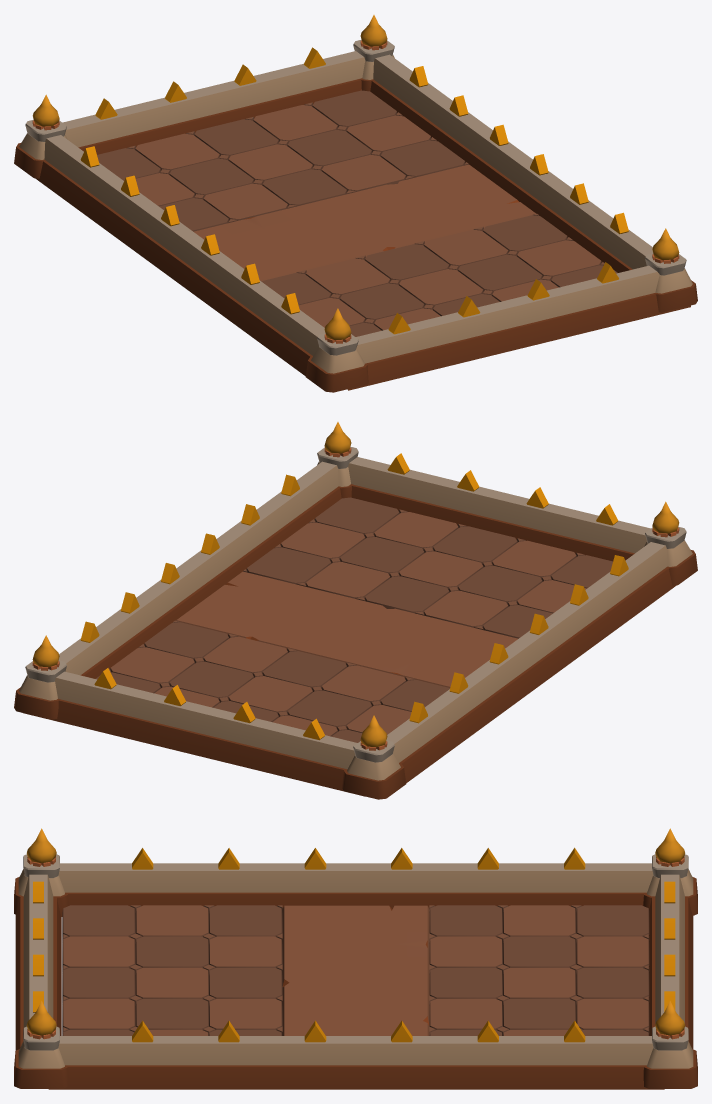
3 renders of one model, top to bottom at view 1: azimuth 30°, elevation 25°; view 2: azimuth 150°, elevation 25°; view 3: azimuth 270°, elevation 25°, orthographic. The views are drawn at different scales.
Visible parts, largest first — view 1: Map02_Platform; view 2: Map02_Platform; view 3: Map02_Platform.
Boxes of the visible parts, left/top/right/bottom form: Map02_Platform: left=14, top=15, right=697, bottom=392; Map02_Platform: left=14, top=422, right=697, bottom=799; Map02_Platform: left=14, top=828, right=697, bottom=1089.
Bounding box in the file's own units: 12.62 × 2.38 × 18.63.
Materials: 1 (1 with a texture image).
